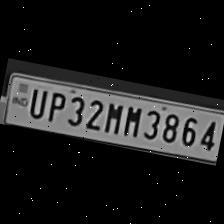2: (81, 94, 106, 132)
3: (62, 90, 88, 128), (139, 104, 162, 142)
4: (195, 115, 220, 152)
6: (176, 112, 200, 148)
8: (157, 108, 181, 146)
M: (100, 97, 126, 136), (120, 101, 144, 139)
P: (42, 88, 66, 124)
U: (24, 84, 49, 120)
